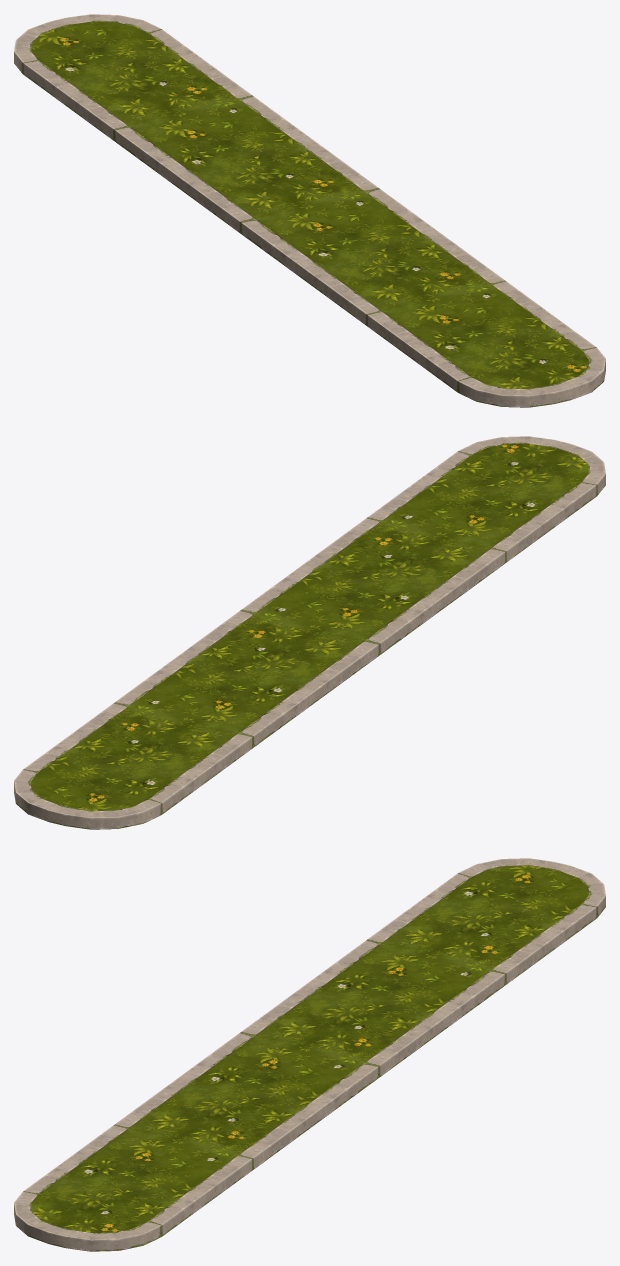
Rendered from TRF0110009.fbx.
3 views of the same model, one above another, from view 1: azimuth 30°, elevation 25°; view 2: azimuth 150°, elevation 25°; view 3: azimuth 330°, elevation 25° (orthographic).
Visible parts, largest first — view 1: smTRF0110009; view 2: smTRF0110009; view 3: smTRF0110009.
Boxes of the visible parts, x1,y1,x2,y2 form: smTRF0110009: [14, 14, 605, 407]; smTRF0110009: [14, 436, 605, 829]; smTRF0110009: [14, 858, 605, 1251].
Bounding box in the file's own units: 190 × 15 × 1200.
1 material, 1 textured.
